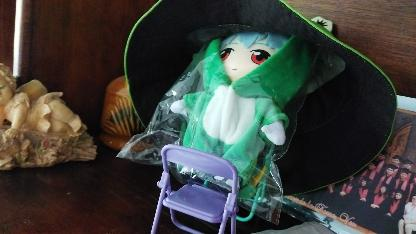rei-plush: (204, 28, 296, 80)
